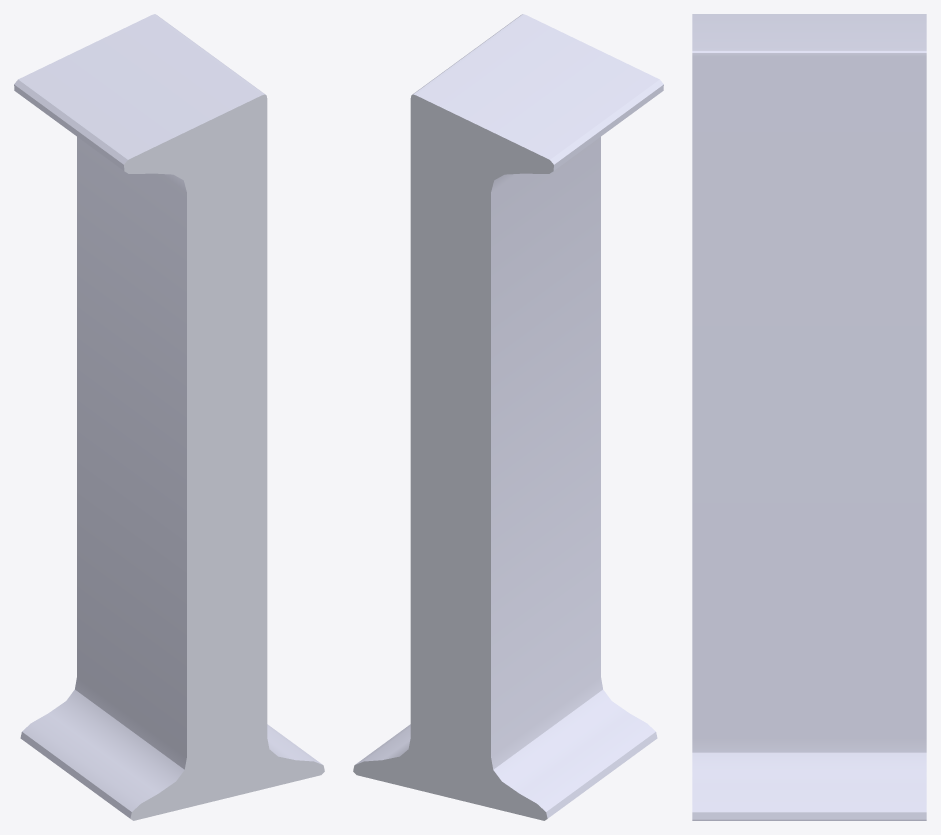
File: L_Soul_Grey.glb
3 renders of one model, left to right at view 1: azimuth 30°, elevation 25°; view 2: azimuth 150°, elevation 25°; view 3: azimuth 270°, elevation 25°, orthographic. The views are drawn at different scales.
Visible parts, largest first — view 1: l_Soul_Grey; view 2: l_Soul_Grey; view 3: l_Soul_Grey.
Part boxes in pixels (bbox=[...]): l_Soul_Grey: bbox=[14, 14, 324, 820]; l_Soul_Grey: bbox=[353, 14, 663, 820]; l_Soul_Grey: bbox=[692, 14, 926, 820].
Size of what is drawn, in the model's own units: 0.0475 by 0.1569 by 0.045.
Materials: 2 (2 with a texture image).
